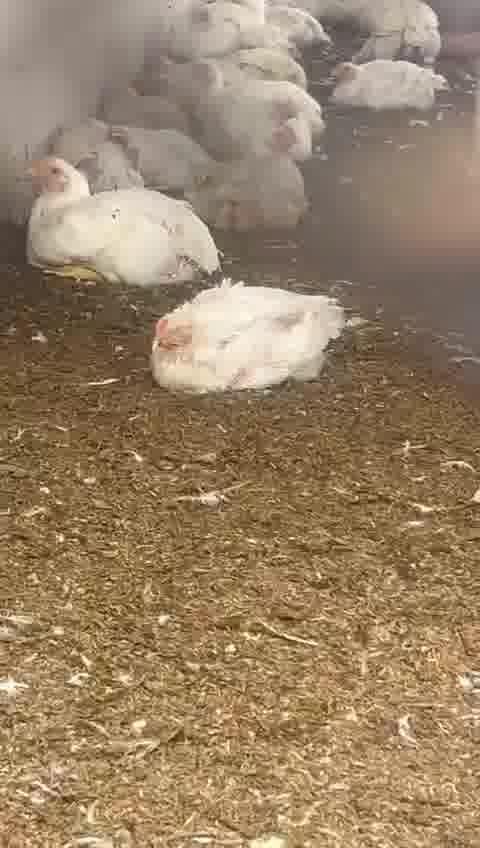AbNormal: (149, 277, 354, 389), (102, 87, 196, 150), (45, 123, 151, 177), (139, 52, 205, 111)
Normal: (22, 151, 219, 293), (207, 123, 318, 228), (208, 79, 332, 140), (328, 55, 451, 111)
